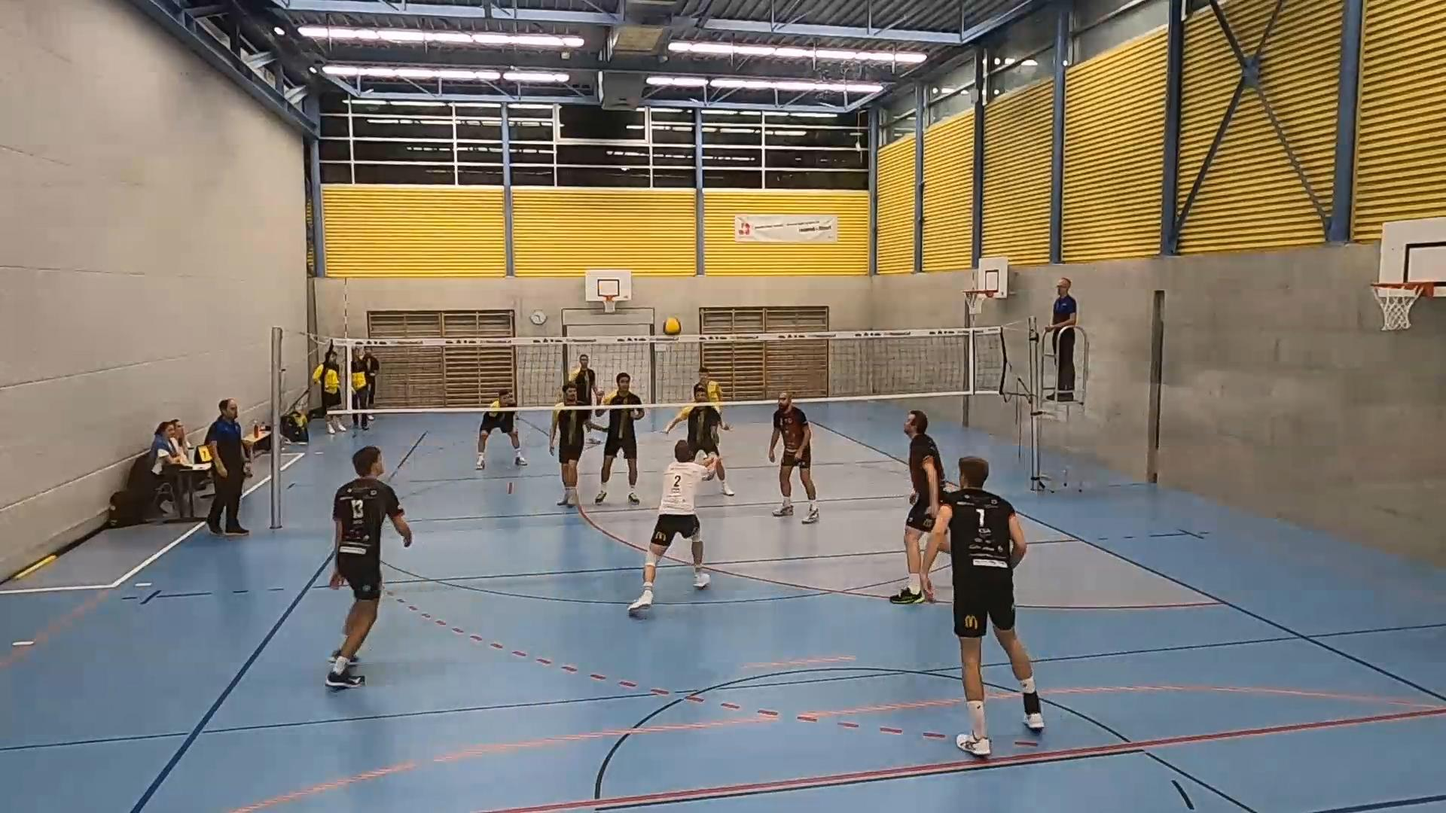Player: (923, 457, 1044, 756), (325, 446, 411, 689), (889, 410, 944, 604), (664, 385, 734, 496), (768, 392, 819, 523), (595, 372, 643, 504), (549, 382, 592, 505), (476, 388, 526, 470), (697, 367, 729, 430), (568, 354, 602, 405)
Receive: (625, 439, 719, 619)
ball: (659, 317, 682, 334)
